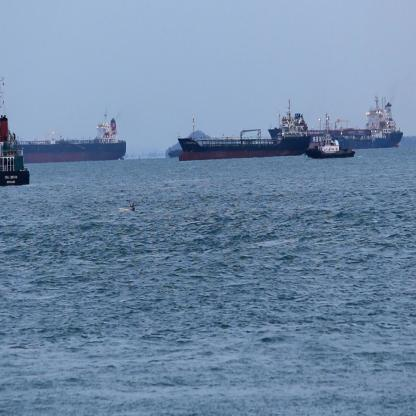Container Ship: (178, 98, 310, 161), (16, 107, 127, 163), (308, 94, 404, 151), (168, 146, 184, 158)
